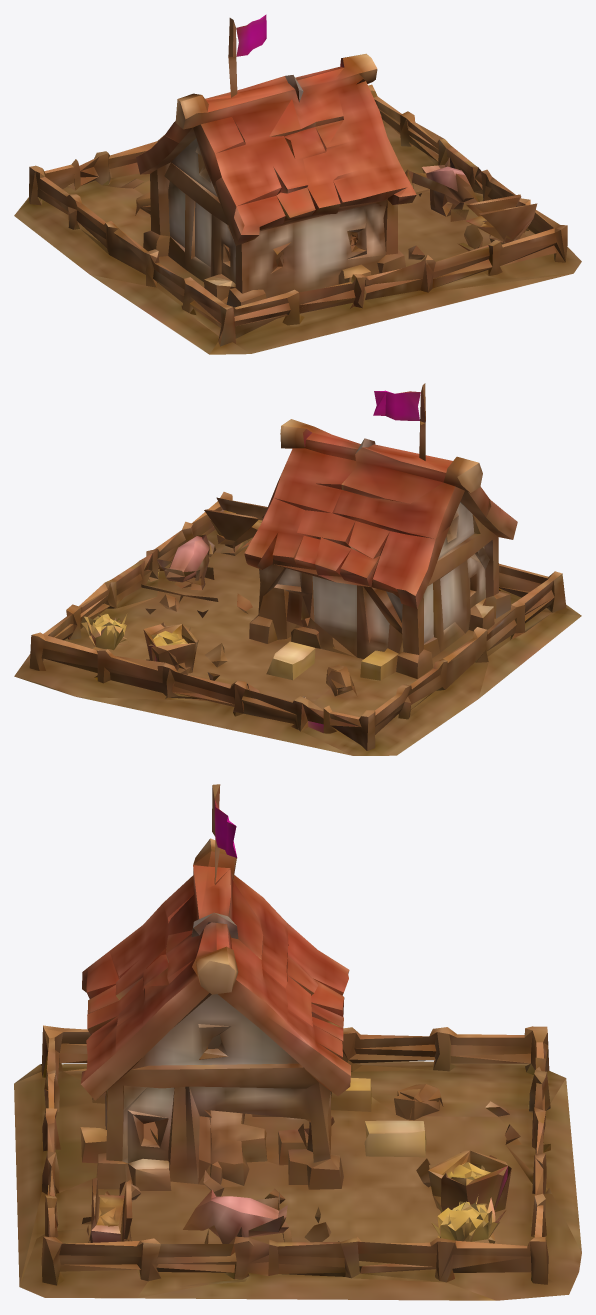
Rendered from farm.lod2.glb.
3 views of the same model, one above another, from view 1: azimuth 30°, elevation 25°; view 2: azimuth 150°, elevation 25°; view 3: azimuth 270°, elevation 25° (orthographic). The views are drawn at different scales.
Visible parts, largest first — view 1: farm.lod2_uv; view 2: farm.lod2_uv; view 3: farm.lod2_uv.
Part boxes in pixels (x1,y1,x2,y2): farm.lod2_uv: (14,14,581,354); farm.lod2_uv: (14,383,581,755); farm.lod2_uv: (14,784,581,1300).
Size of the model in its own units: 1.88 by 1.22 by 1.86.
1 material, 1 textured.
